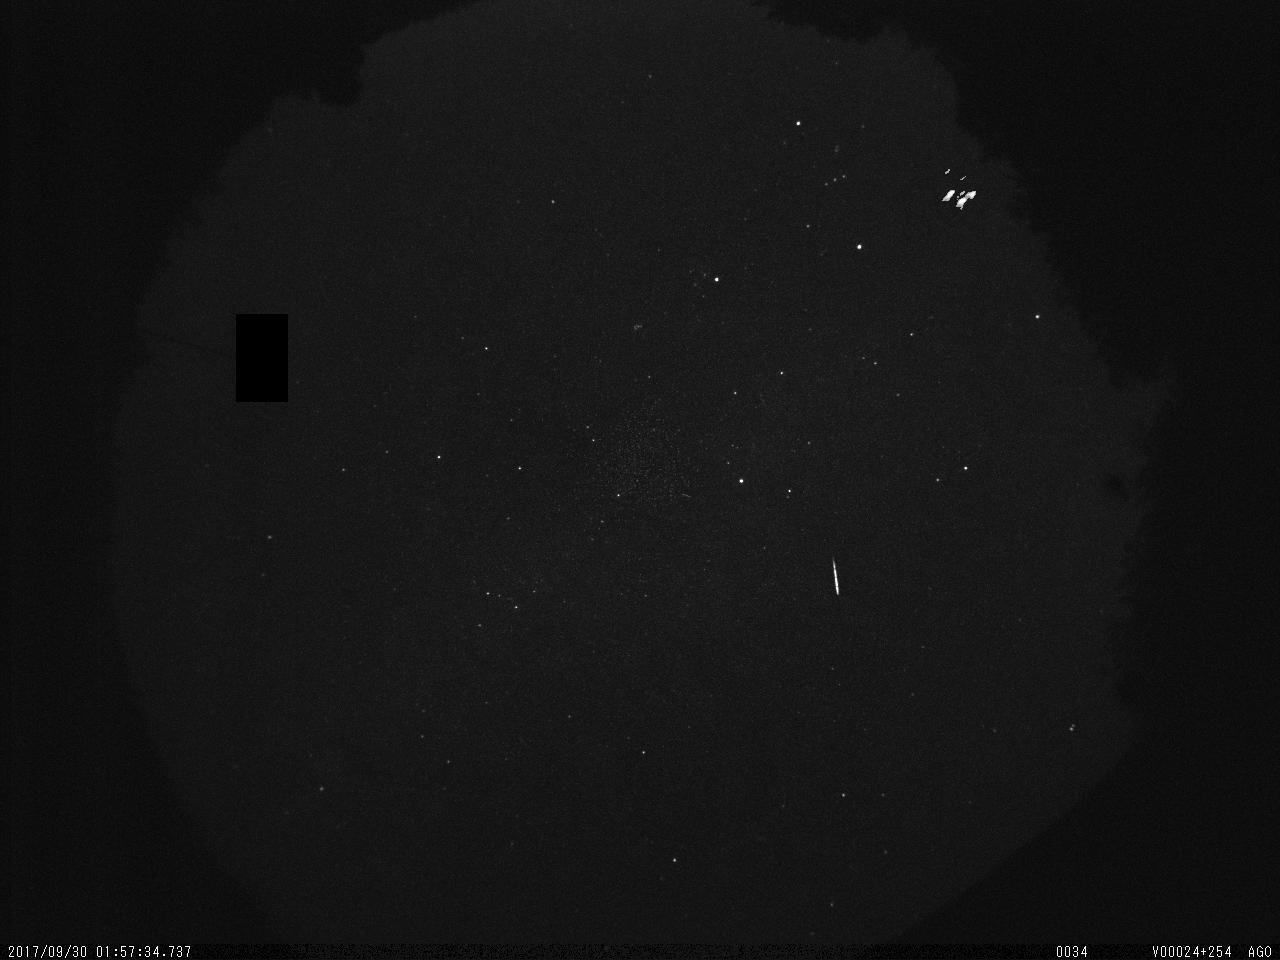TLE: (926, 165, 986, 217)
